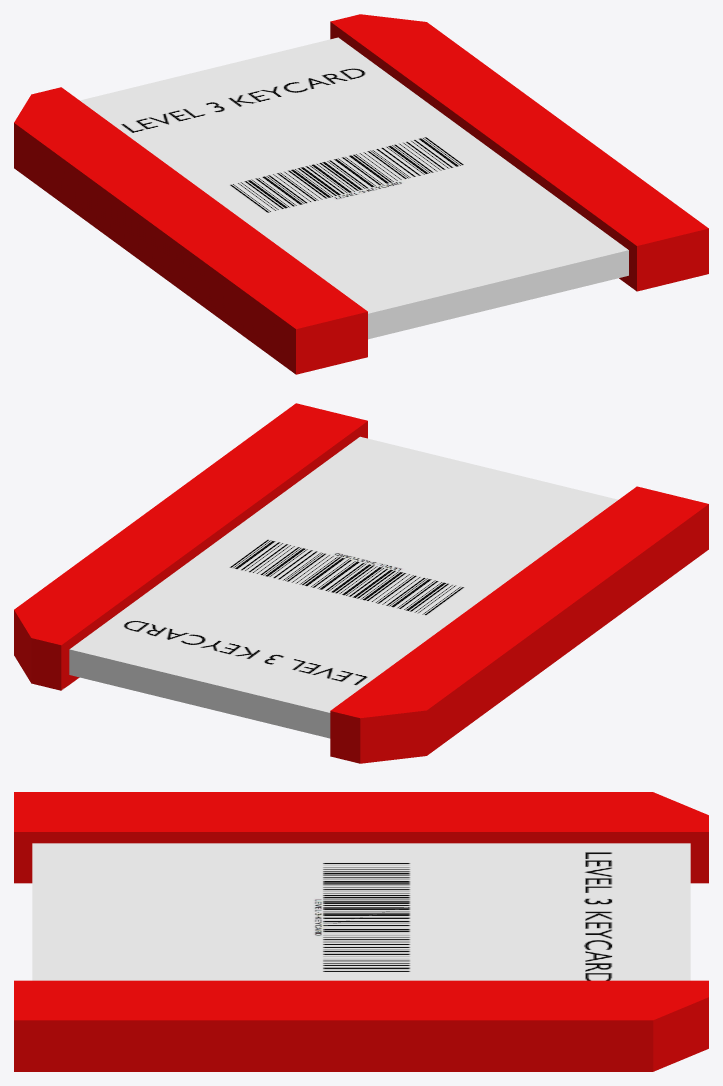
The model's file is Level3Keycard.fbx.
The picture shows the model from 3 angles, top to bottom: view 1: azimuth 30°, elevation 25°; view 2: azimuth 150°, elevation 25°; view 3: azimuth 270°, elevation 25°; orthographic projection. The views are drawn at different scales.
Parts seen in each view (by area): view 1: Cube; view 2: Cube; view 3: Cube.
Boxes of the visible parts, x1,y1,x2,y2 form: Cube: [14, 14, 708, 374]; Cube: [14, 403, 708, 763]; Cube: [14, 792, 708, 1071].
Size of the model in its own units: 291 by 30.61 by 374.
1 material, 1 textured.
